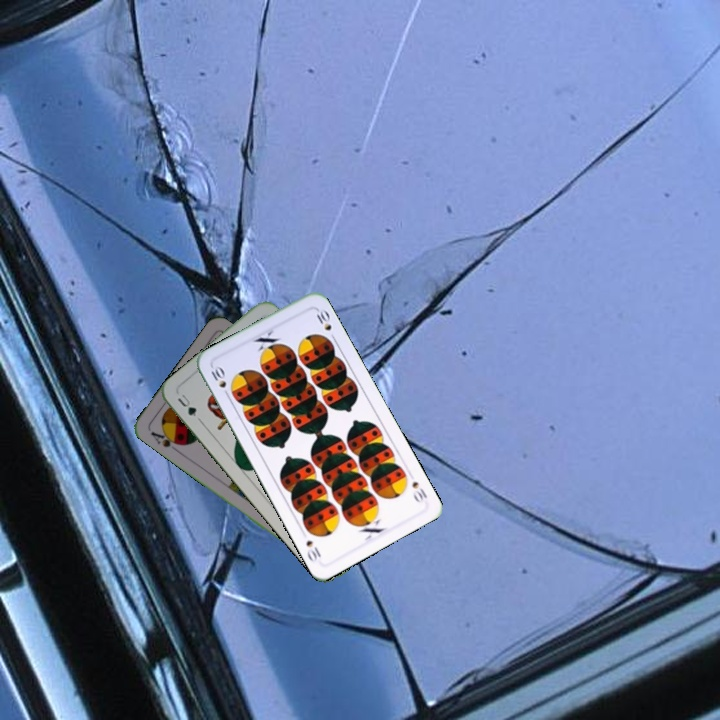GU: (173, 390, 199, 419)
S10: (207, 362, 232, 400), (408, 477, 430, 505)
SA: (146, 426, 185, 455)
